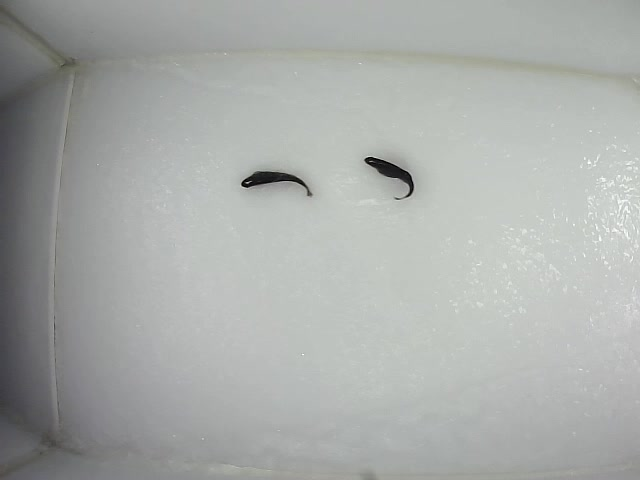fish: (362, 155, 416, 201), (240, 169, 311, 199)
